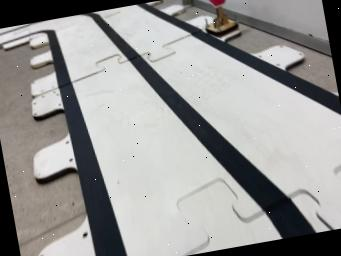stop: (207, 0, 239, 35), (207, 0, 239, 35), (207, 0, 239, 35)
street: (0, 2, 341, 256), (0, 2, 341, 256), (0, 2, 341, 256)
